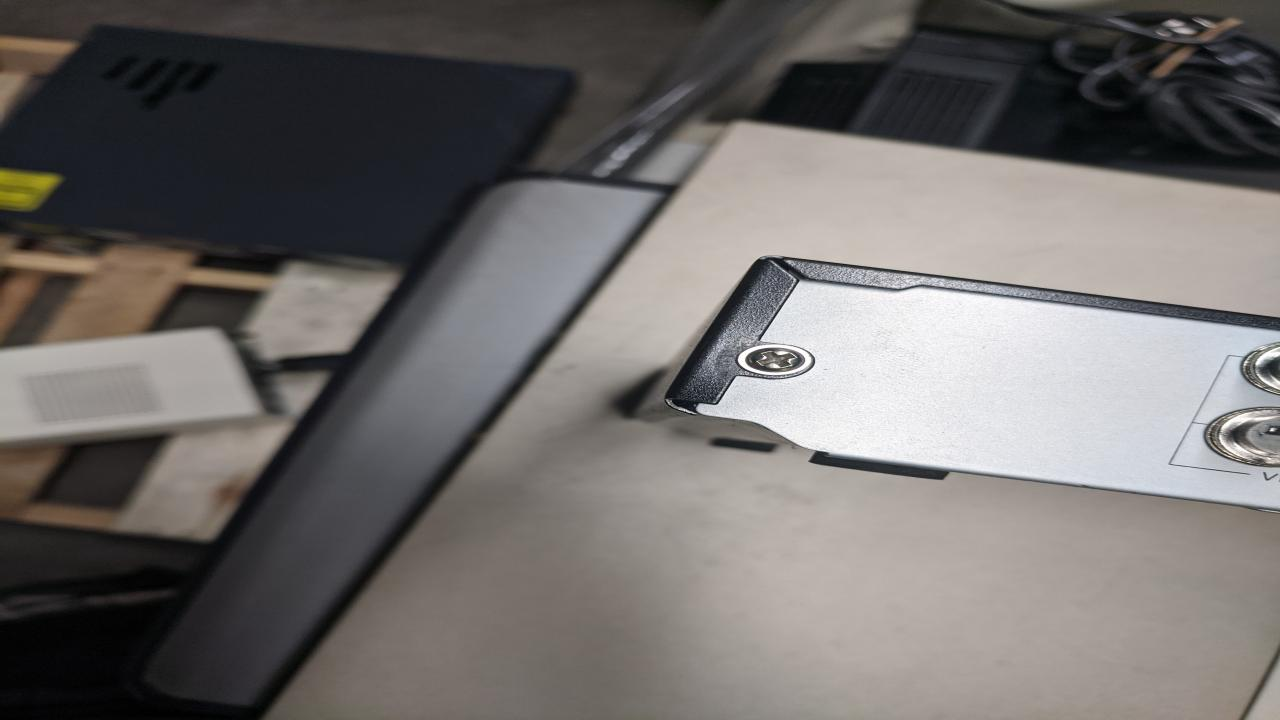CRS: (745, 345, 801, 374)
